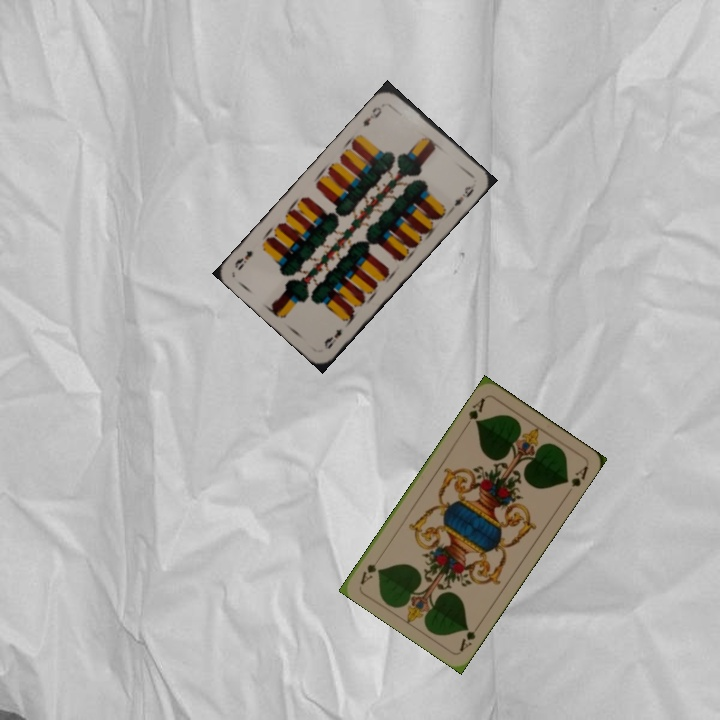E9: (359, 103, 384, 130), (320, 324, 344, 352)
GA: (455, 618, 484, 654), (461, 393, 488, 430)
